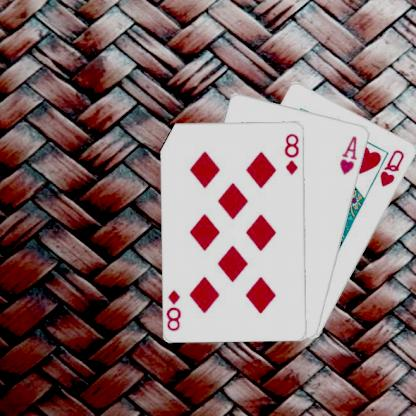8D: (167, 286, 185, 332), (284, 131, 302, 176)
AH: (339, 133, 360, 176)
QH: (379, 147, 408, 188)
